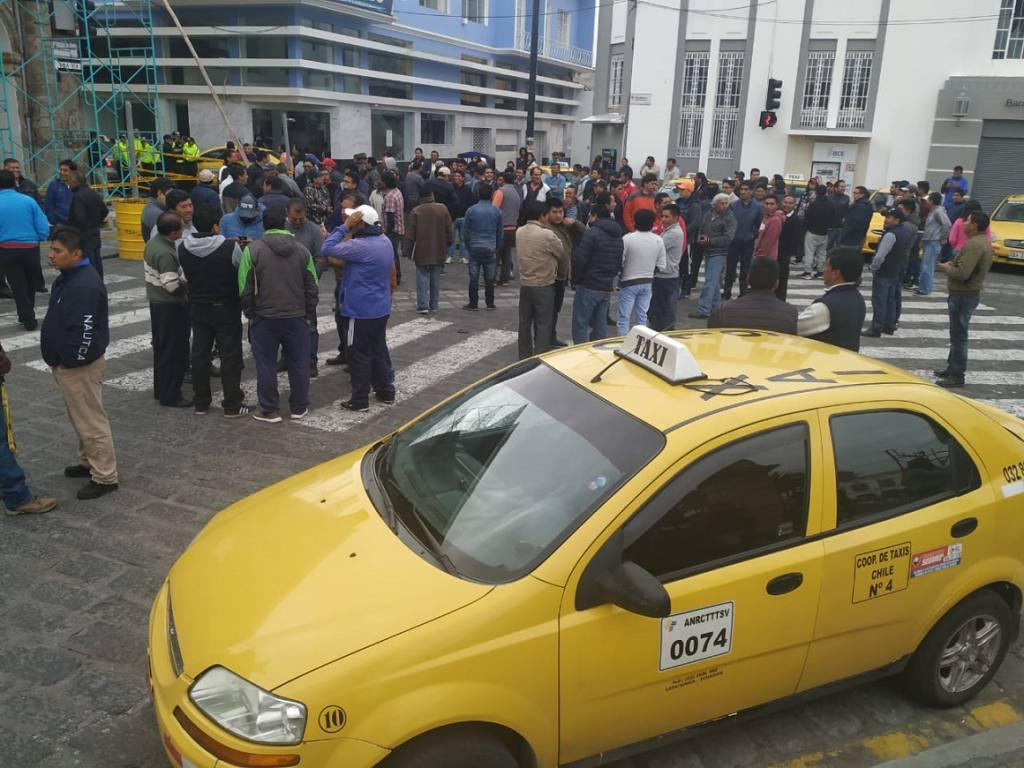taxi: (137, 365, 1024, 768)
